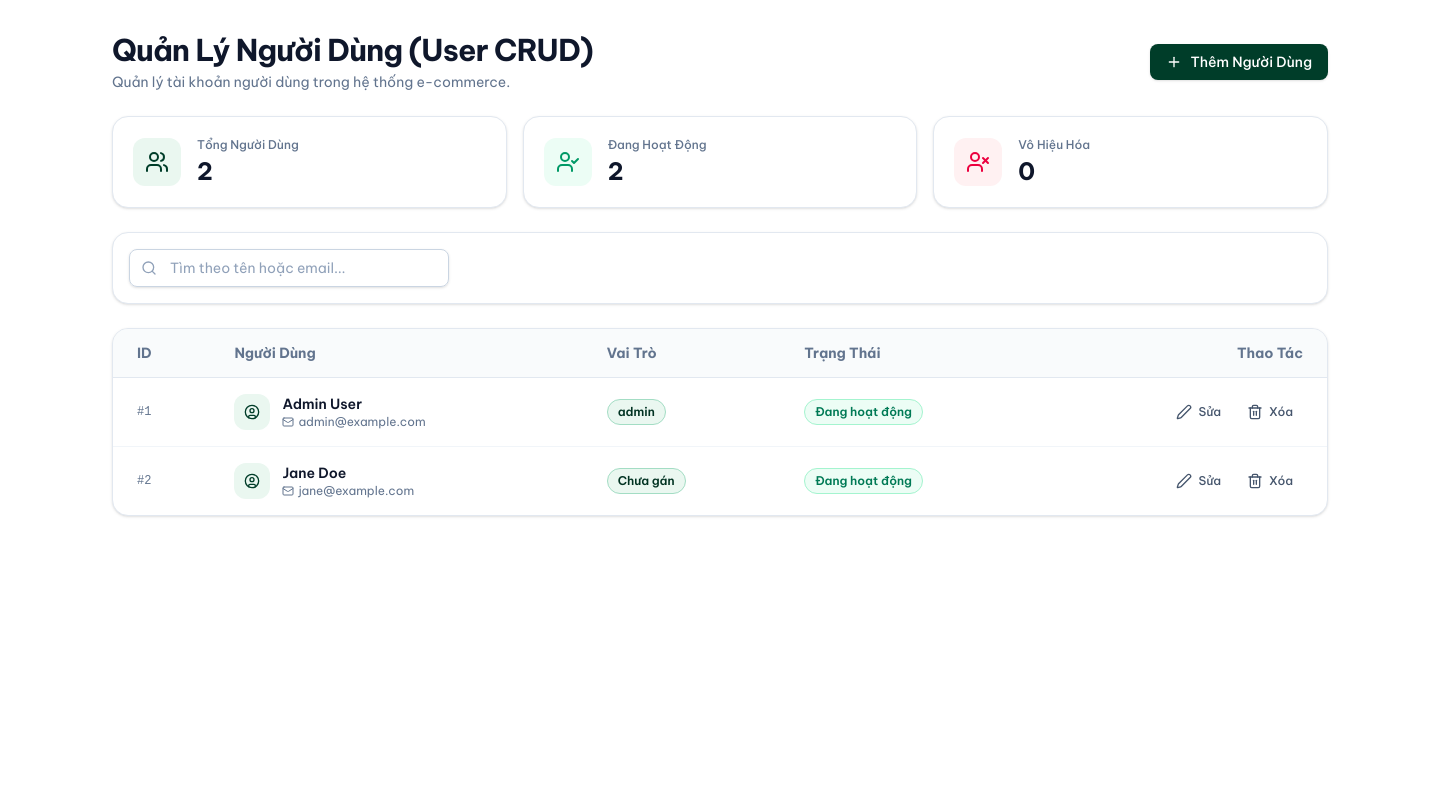
Test: UsersPage › deletes a user via the confirmation modal
The width and height of the screenshot is (1440, 810).
Click the button titled "Xóa" in the row of "Admin User" at (1270, 412), box [1237,398,1303,426]
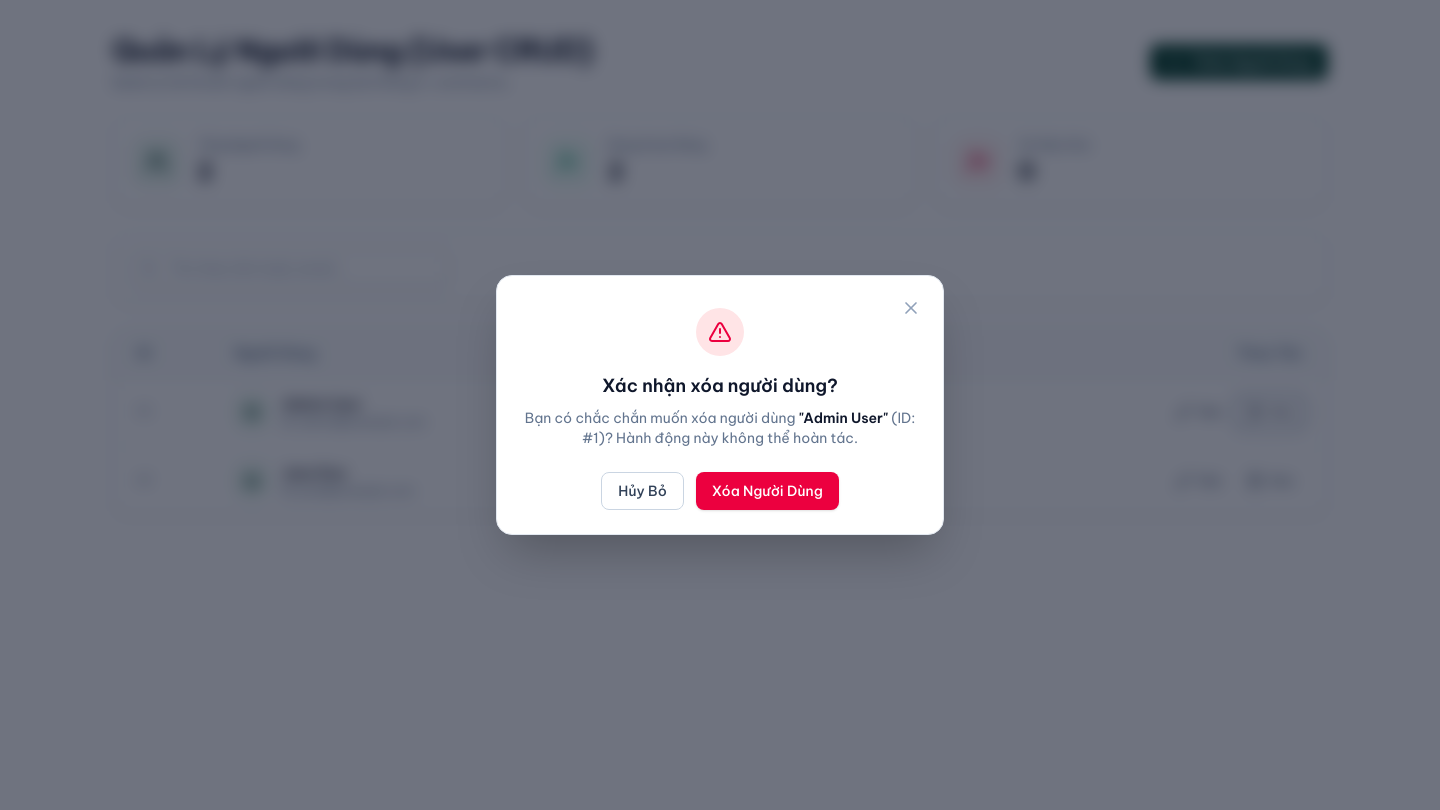
Click the button "Xóa Người Dùng" at (767, 491), box [696,472,839,510]
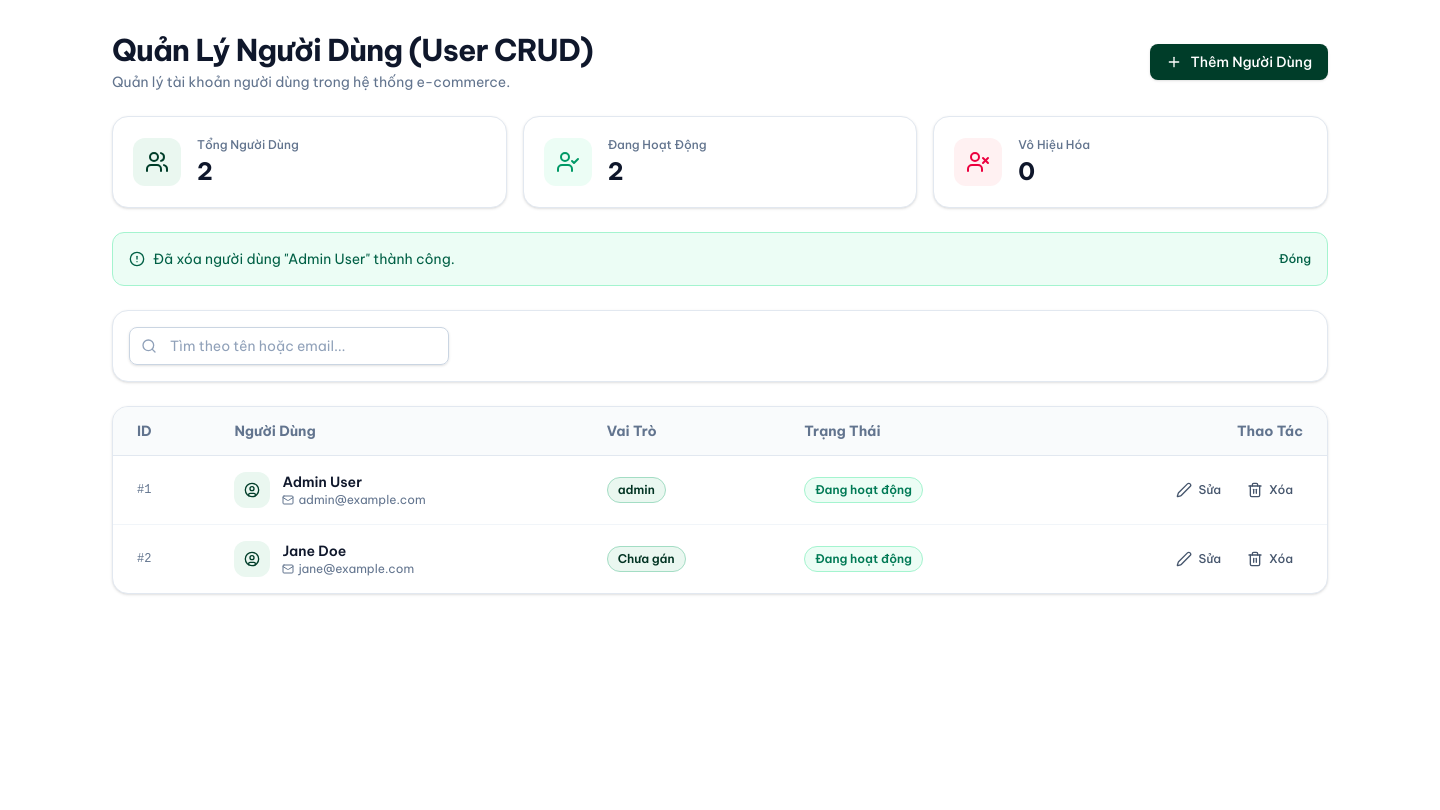
Now the text "Đã xóa người dùng \"Admin User\" thành công." is shown, box [153,249,455,269]
